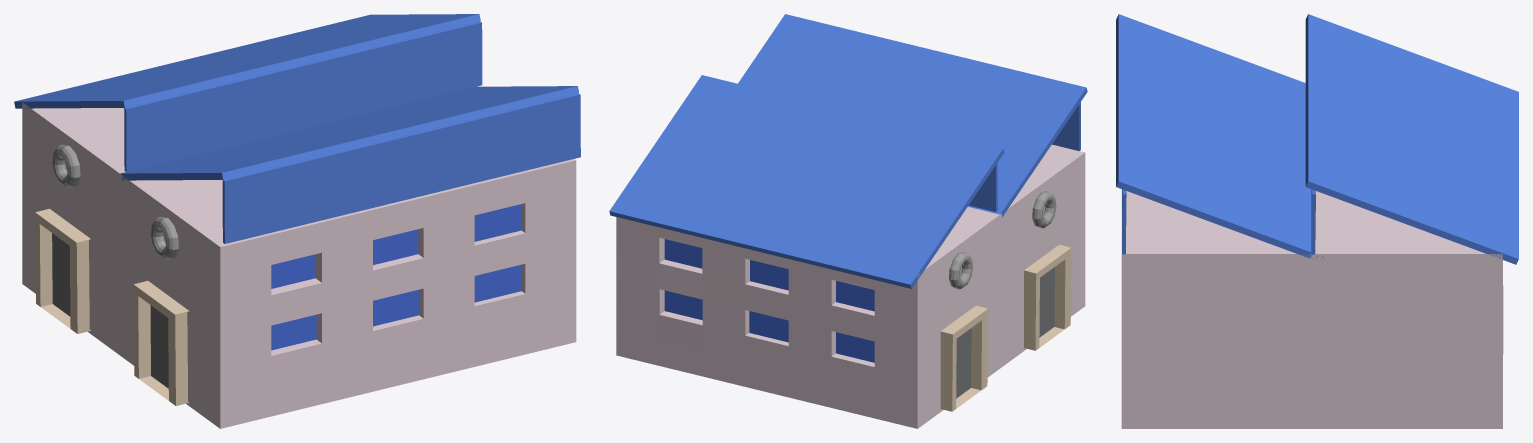
Rendered from bluepowder.glb.
The picture shows the model from 3 angles, left to right: view 1: azimuth 30°, elevation 25°; view 2: azimuth 150°, elevation 25°; view 3: azimuth 270°, elevation 25°; orthographic projection. The views are drawn at different scales.
Parts seen in each view (by area): view 1: Cube.004, Cube.002, Cube, Cube.001, Cube.003, Cube.006, Torus; view 2: Cube.001, Cube, Cube.004, Cube.006, Cube.003, Cube.002, Torus; view 3: Cube.004, Cube, Cube.001, Cube.006.
Boxes of the visible parts, left/top/right/bottom form: Cube.004: left=120, top=86, right=580, bottom=428; Cube.002: left=124, top=21, right=482, bottom=171; Cube: left=22, top=102, right=125, bottom=356; Cube.001: left=14, top=14, right=480, bottom=108; Cube.003: left=35, top=208, right=90, bottom=333; Cube.006: left=35, top=92, right=187, bottom=333; Torus: left=52, top=144, right=80, bottom=186; Cube.001: left=609, top=75, right=1004, bottom=288; Cube: left=616, top=207, right=1001, bottom=428; Cube.004: left=738, top=14, right=1087, bottom=366; Cube.006: left=609, top=116, right=1003, bottom=406; Cube.003: left=940, top=305, right=987, bottom=411; Cube.002: left=968, top=163, right=997, bottom=211; Torus: left=949, top=252, right=972, bottom=289; Cube.004: left=1116, top=14, right=1328, bottom=428; Cube: left=1311, top=191, right=1503, bottom=428; Cube.001: left=1305, top=14, right=1518, bottom=264; Cube.006: left=1306, top=17, right=1518, bottom=428.
Bounding box in the file's own units: 8.57 × 5.62 × 8.28.
